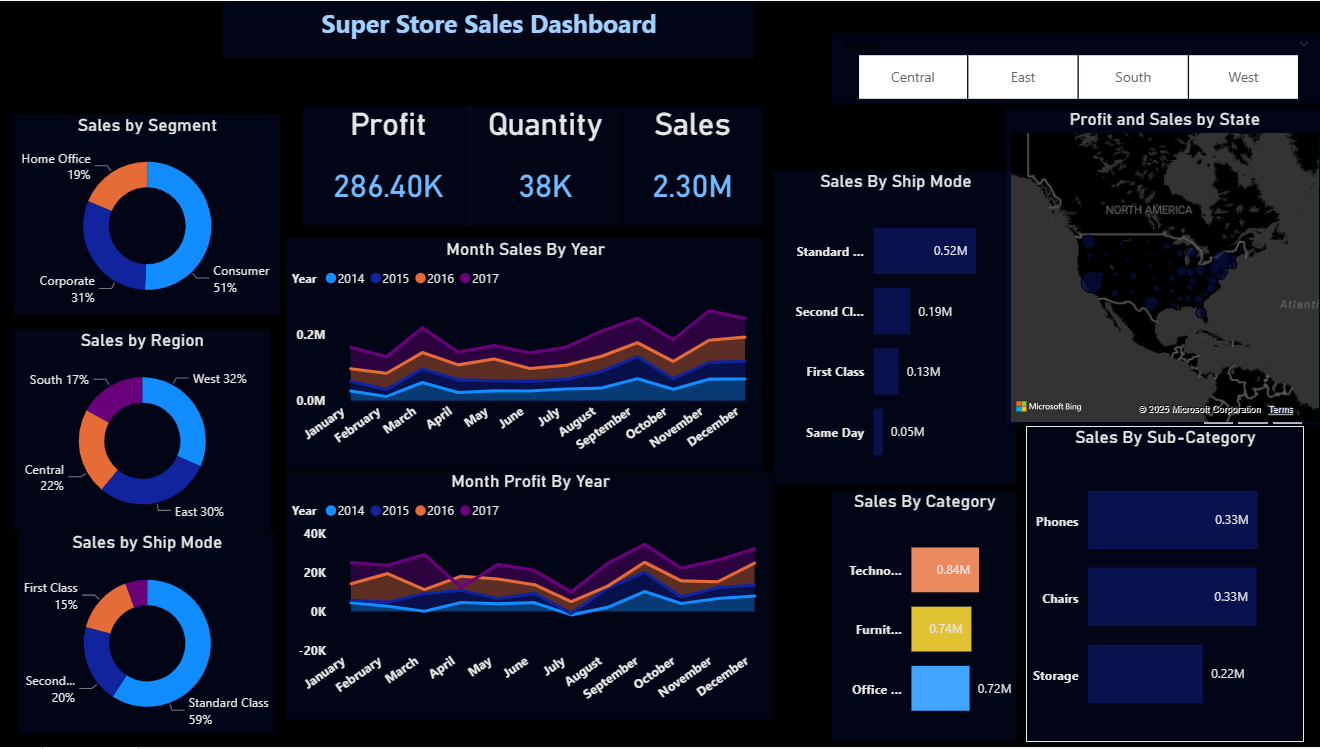

Layout of this report page (visuals, bound fields, positions):
{"tool":"powerbi","page":{"name":"Page 1","canvas":[1280,720],"ordinal":0},"visuals":[{"type":"clusteredBarChart","title":"Sales By Category","fields":{"Category":["Sample - Superstore.Category"],"Y":["Sum(Sample - Superstore.Sales)"]},"box":[805.5,472,179.8,242.9],"z":0},{"type":"clusteredBarChart","title":"Sales By Sub-Category","fields":{"Category":["Sample - Superstore.Sub-Category"],"Y":["Sum(Sample - Superstore.Sales)"]},"box":[993.5,410.3,267.6,304.6],"z":1000},{"type":"clusteredBarChart","title":"Sales By Ship Mode","fields":{"Category":["Sample - Superstore.Ship Mode"],"Y":["Sum(Sample - Superstore.Sales)"]},"box":[731,167,234,305],"z":2000},{"type":"stackedAreaChart","title":"Month Sales By Year","fields":{"Y":["Sum(Sample - Superstore.Sales)"],"Category":["Sample - Superstore.Order Date.Variation.Date Hierarchy.Month","Sample - Superstore.Order Date.Variation.Date Hierarchy.Day"],"Series":["Sample - Superstore.Order Date.Variation.Date Hierarchy.Year"]},"box":[279.9,227.8,461.1,225],"z":3000},{"type":"stackedAreaChart","title":"Month Profit By Year","fields":{"Category":["Sample - Superstore.Order Date.Variation.Date Hierarchy.Month","Sample - Superstore.Order Date.Variation.Date Hierarchy.Day"],"Series":["Sample - Superstore.Order Date.Variation.Date Hierarchy.Year"],"Y":["Sum(Sample - Superstore.Profit)"]},"box":[279.9,452.8,470.7,241.5],"z":4000},{"type":"map","title":"Profit and Sales by State","fields":{"Category":["Sample - Superstore.State"],"Size":["Sum(Sample - Superstore.Sales)"]},"box":[965,107,307,307],"z":5000},{"type":"donutChart","title":"Sales by Segment","fields":{"Category":["Sample - Superstore.Segment"],"Y":["Sum(Sample - Superstore.Sales)"]},"box":[15.1,108.4,259.3,196.2],"z":6000},{"type":"donutChart","title":"Sales by Region","fields":{"Category":["Sample - Superstore.Region"],"Y":["Sum(Sample - Superstore.Sales)"]},"box":[15.1,315.6,249.7,196.2],"z":7000},{"type":"donutChart","title":"Sales by Ship Mode","fields":{"Category":["Sample - Superstore.Ship Mode"],"Y":["Sum(Sample - Superstore.Sales)"]},"box":[20.6,511.8,249.7,196.2],"z":8000},{"type":"slicer","fields":{"Values":["Sample - Superstore.Region"]},"box":[805.5,30.2,474.8,70],"z":9000},{"type":"textbox","box":[218,0,513,75],"z":10000},{"type":"card","title":"Sales","fields":{"Values":["Sum(Sample - Superstore.Sales)"]},"box":[602.4,100.2,138.6,116.6],"z":11000},{"type":"card","title":"Quantity","fields":{"Values":["Sum(Sample - Superstore.Quantity)"]},"box":[455.6,100.2,146.8,116.6],"z":12000},{"type":"card","title":"Profit","fields":{"Values":["Sum(Sample - Superstore.Profit)"]},"box":[295,100.2,164.7,116.6],"z":13000}]}

Visuals, with their boxes in screenshot pixels (x1, y1, x2, y2), scaled from the page's 1280x720 canvas onto the 1320x749 screenshot:
"Sales By Category" clusteredBarChart: [831,491,1016,744]
"Sales By Sub-Category" clusteredBarChart: [1025,427,1301,744]
"Sales By Ship Mode" clusteredBarChart: [754,174,995,491]
"Month Sales By Year" stackedAreaChart: [289,237,764,471]
"Month Profit By Year" stackedAreaChart: [289,471,774,722]
"Profit and Sales by State" map: [995,111,1312,431]
"Sales by Segment" donutChart: [16,113,283,317]
"Sales by Region" donutChart: [16,328,273,532]
"Sales by Ship Mode" donutChart: [21,532,279,737]
slicer - Sample - Superstore.Region: [831,31,1319,104]
textbox: [225,0,754,78]
"Sales" card: [621,104,764,226]
"Quantity" card: [470,104,621,226]
"Profit" card: [304,104,474,226]
